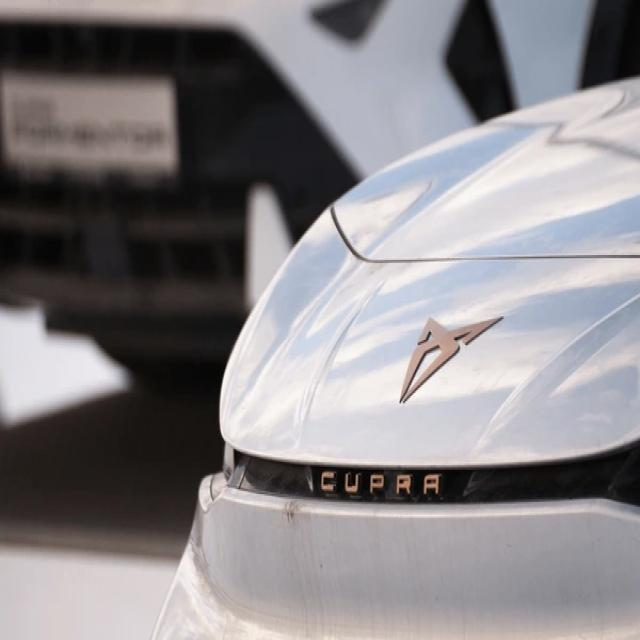cupra: (397, 306, 508, 402)
